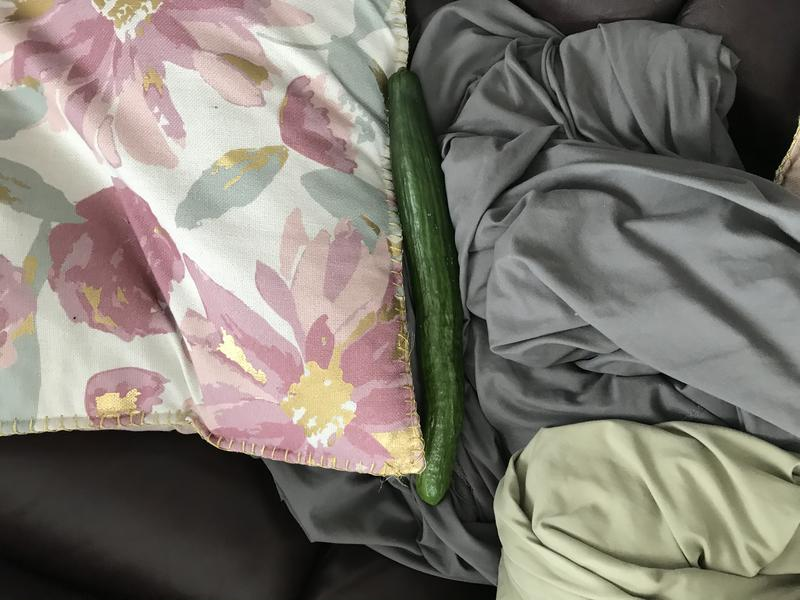cucumber: (374, 55, 481, 516)
